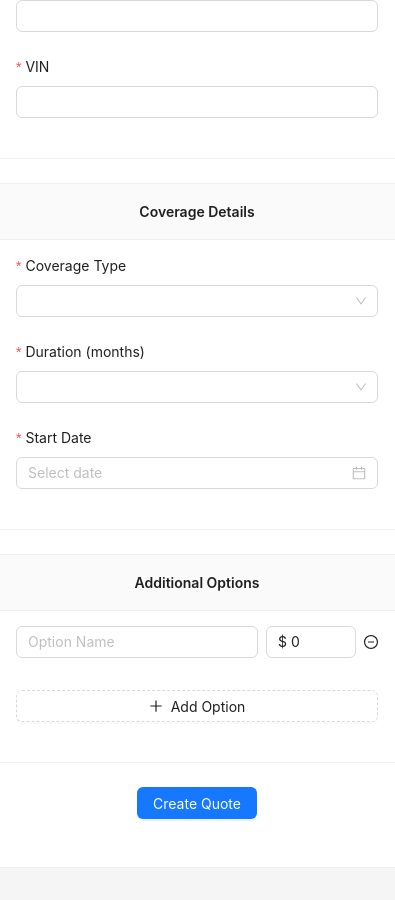
Test: QuoteForm UX Tests › Form provides validation feedback
The width and height of the screenshot is (395, 900).
(page scrolled)
// Try to submit the form without filling required fields
Click the button "Create Quote" at (197, 803), box [137,787,257,819]
(page scrolled)
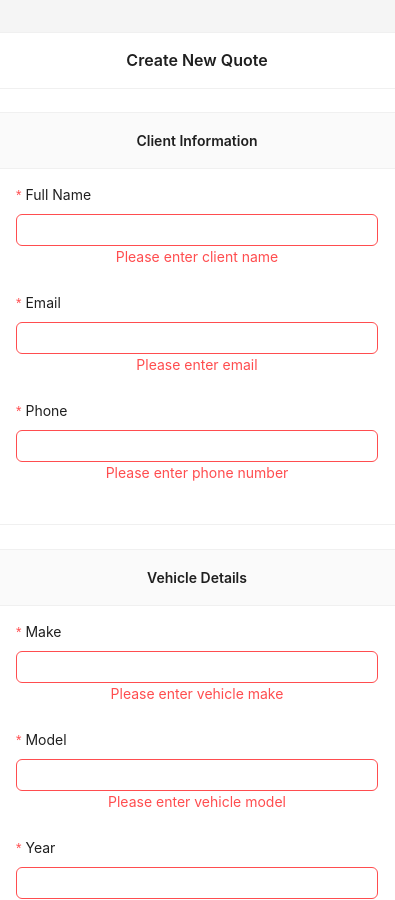
Now the text "Please enter client name" is shown, box [116,248,278,265]
